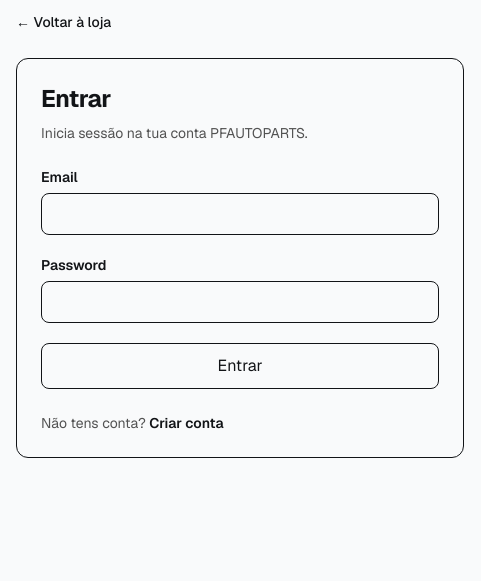
Test: LoginPage › preserva a tentativa quando existe conflito da mergeKey
Type "cliente@example.com" into the field labelled "Email" at (240, 214), box [41,193,439,235]
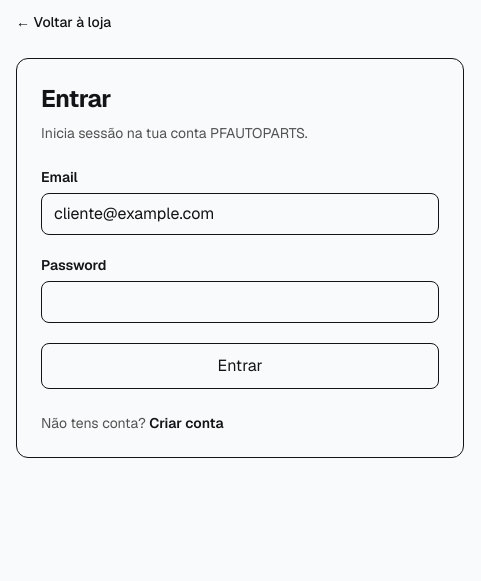
Type "segredo" into the password field labelled "Password" at (240, 302), box [41,281,439,323]
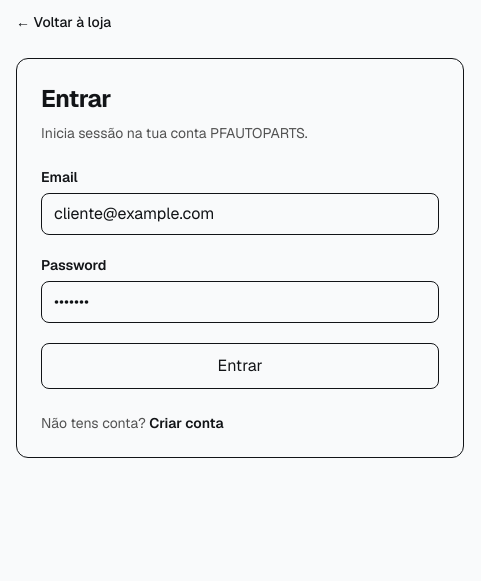
Click the button "Entrar" at (240, 366), box [41,343,439,389]
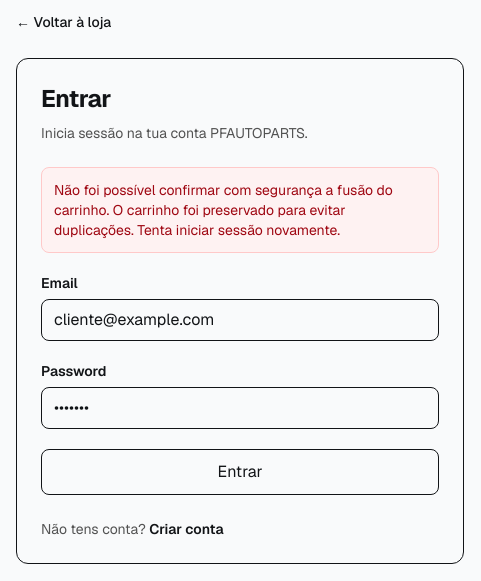
Now the message shows "Não foi possível confirmar com segurança", box [54,181,393,239]
